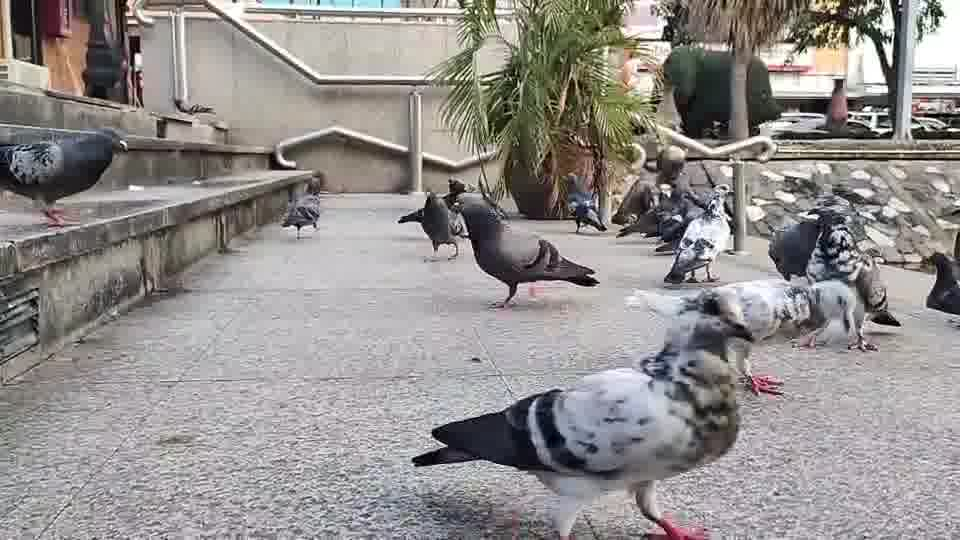Pigeon: (410, 287, 755, 538), (631, 274, 865, 397), (448, 178, 600, 308), (767, 206, 901, 351), (0, 121, 128, 228), (662, 183, 734, 283), (396, 176, 474, 261), (279, 176, 321, 239), (565, 171, 607, 233), (925, 249, 959, 315)
